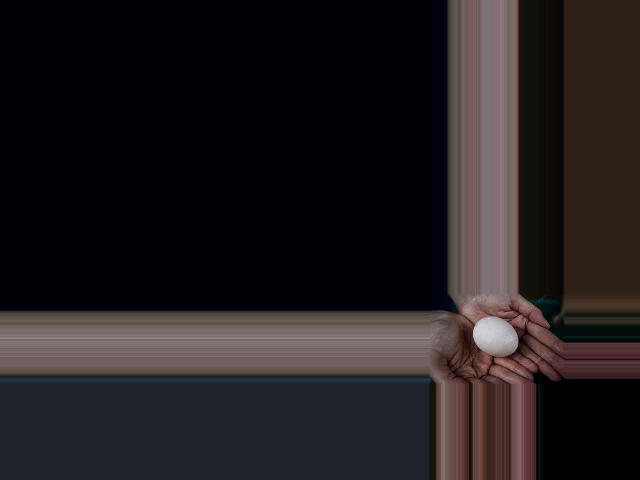egg: (473, 317, 518, 356)
